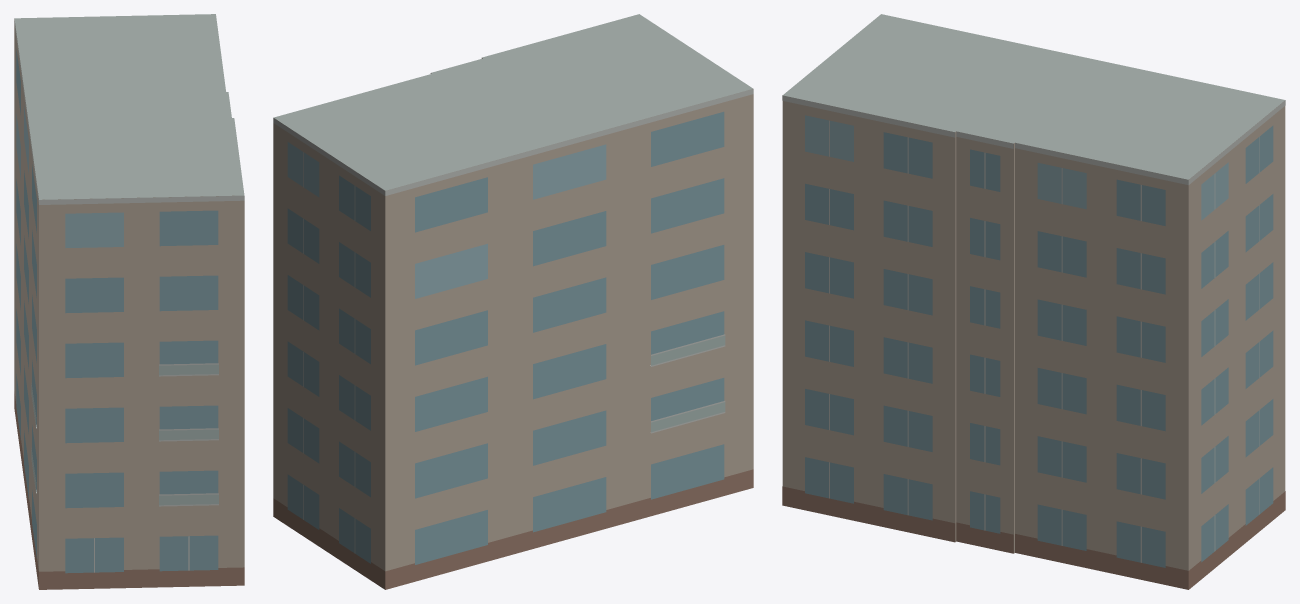
The model's file is survey-upis-32550871.glb.
3 views of the same model, side by side, from view 1: azimuth 30°, elevation 25°; view 2: azimuth 150°, elevation 25°; view 3: azimuth 270°, elevation 25° (orthographic). The views are drawn at different scales.
Parts seen in each view (by area): view 1: survey-upis-32550871.tmp; view 2: survey-upis-32550871.tmp; view 3: survey-upis-32550871.tmp.
Part boxes in pixels (x1,y1,x2,y2): survey-upis-32550871.tmp: (14, 14, 244, 589); survey-upis-32550871.tmp: (273, 14, 753, 589); survey-upis-32550871.tmp: (782, 14, 1285, 589).
Bounding box in the file's own units: 15.87 × 18.3 × 20.35.
